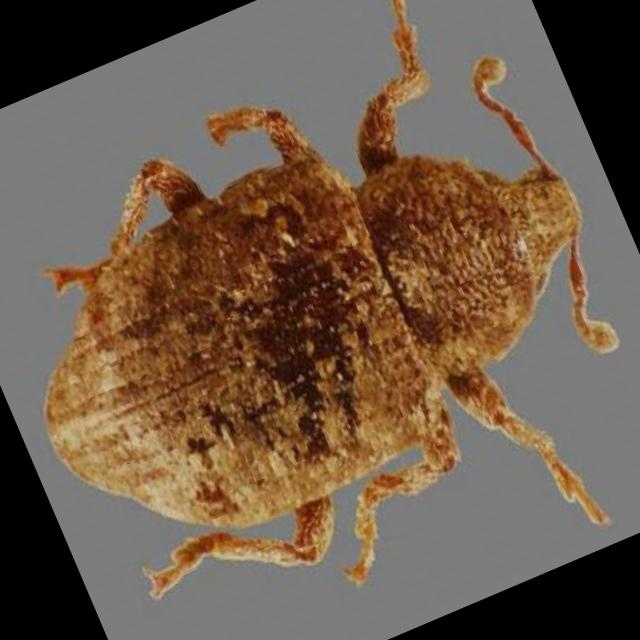rice-bug: (0, 20, 636, 581)
